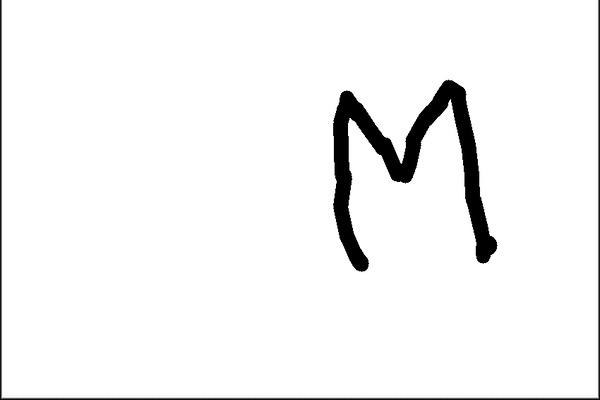M: (321, 77, 499, 268)
